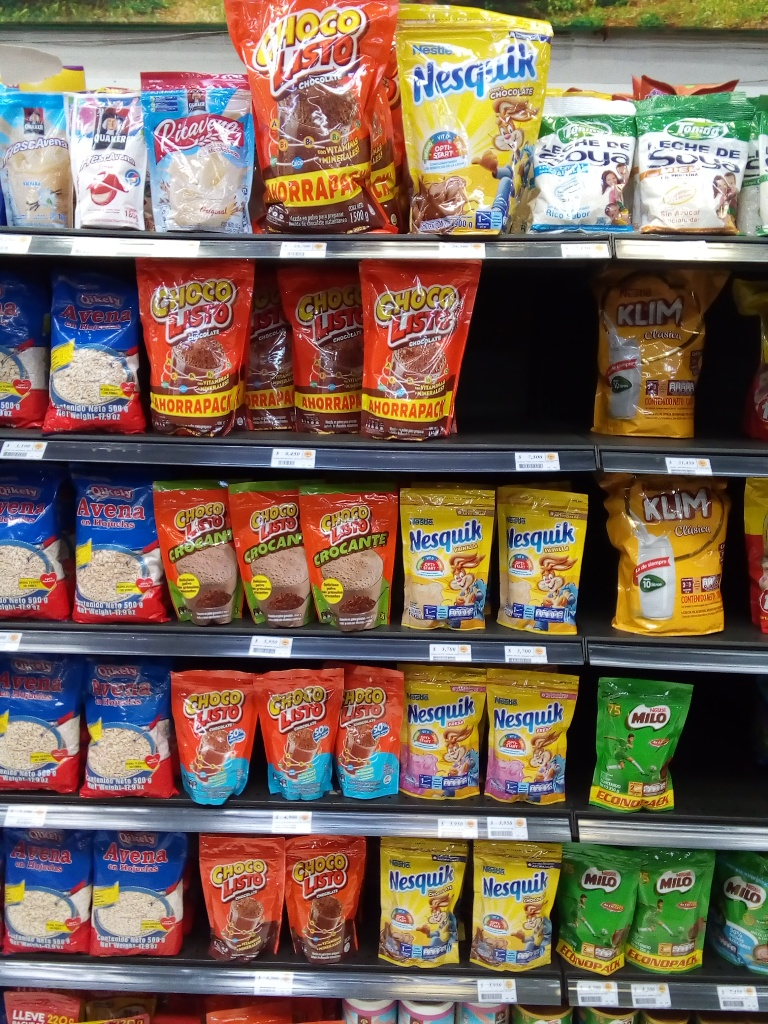COL0170102DYP25000: (302, 480, 396, 633)
COL0170103DYP1,500: (226, 1, 393, 235)
COL0170103DYP20000: (279, 836, 374, 962)
COL0170103DYP44000: (356, 260, 482, 442)
COL0170104DYP20000: (338, 662, 408, 798)
COL0170203DYP25000: (588, 673, 693, 811)
COL0170205DYP20000: (704, 852, 768, 981)
COL0170303DYP20000: (470, 839, 560, 971)
COL0170305DYP20000: (483, 667, 579, 803)
COL0170306DYP20000: (497, 487, 590, 634)
